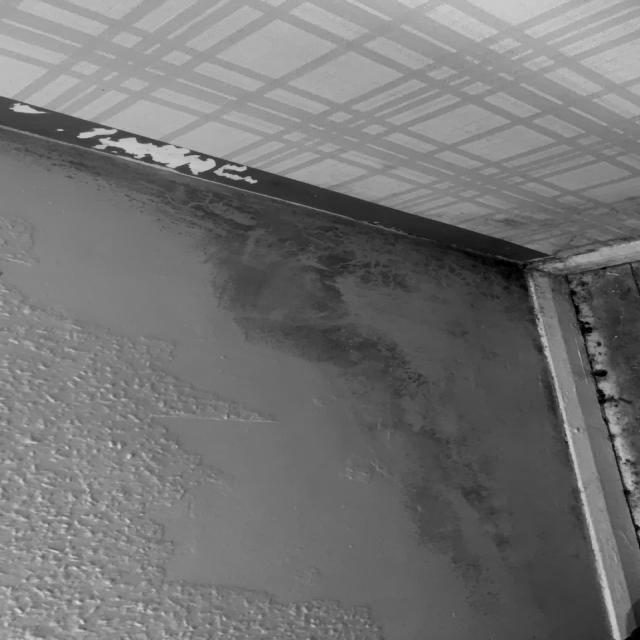stain marks: (196, 178, 526, 396), (336, 398, 589, 617), (0, 127, 196, 250), (530, 296, 555, 396)
